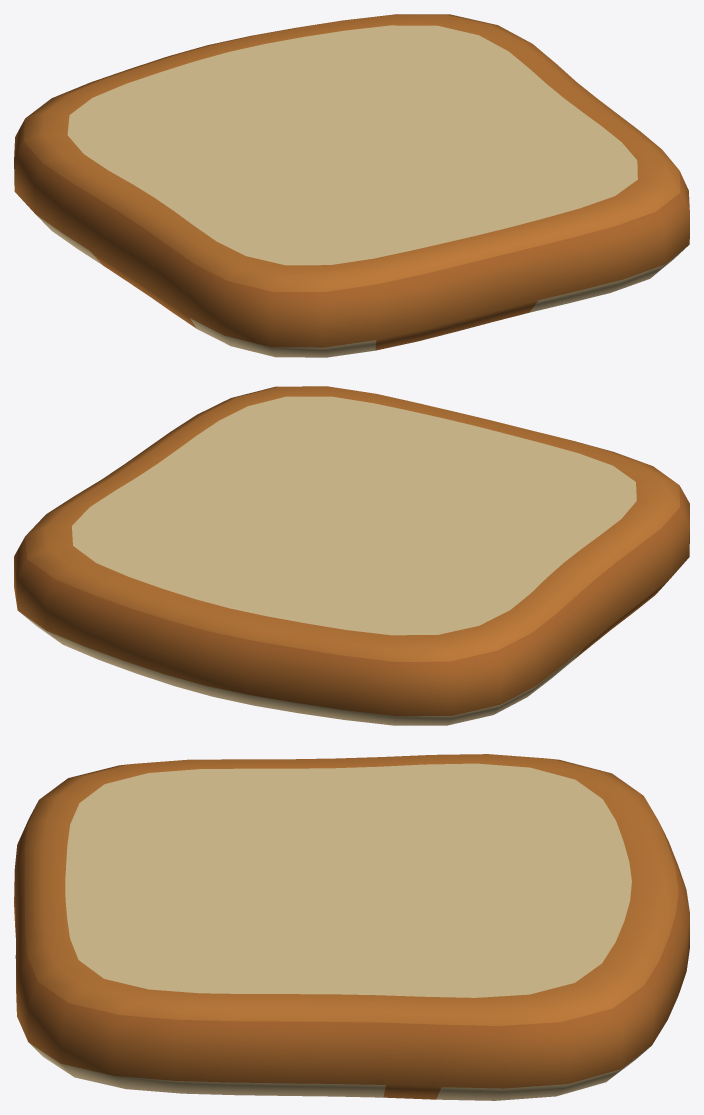
File: bread.glb
The picture shows the model from 3 angles, top to bottom: view 1: azimuth 30°, elevation 25°; view 2: azimuth 150°, elevation 25°; view 3: azimuth 270°, elevation 25°; orthographic projection. The views are drawn at different scales.
Parts seen in each view (by area): view 1: body; view 2: body; view 3: body.
Boxes of the visible parts, x1,y1,x2,y2 form: body: (14,14,689,357); body: (14,386,689,725); body: (14,754,689,1100).
Size of the model in its own units: 1.03 by 0.16 by 1.06.
